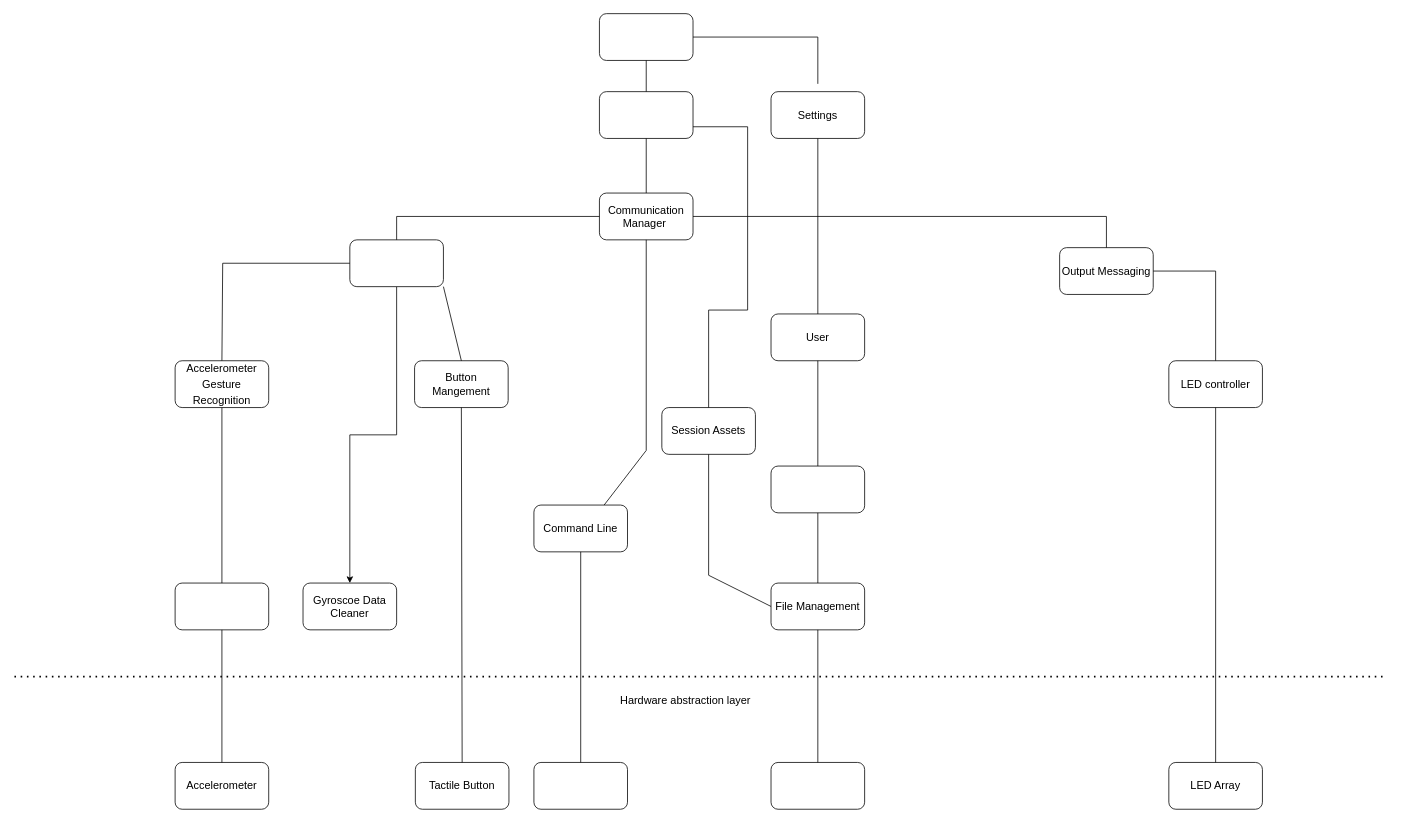
Some shapes in this 1402 by 823 pixel diagram are drawn without their labels. The box of each missing label's shape, as (x1, y1, x2, y2) in pixels:
Accelerometer Data Cleaner: (174, 582, 269, 630)
Input Messaging: (349, 239, 443, 287)
Logging: (770, 465, 865, 513)
Main: (599, 13, 693, 60)
Session Controller: (599, 91, 693, 138)
URT/UART: (533, 762, 628, 809)
USB: (770, 762, 865, 809)
